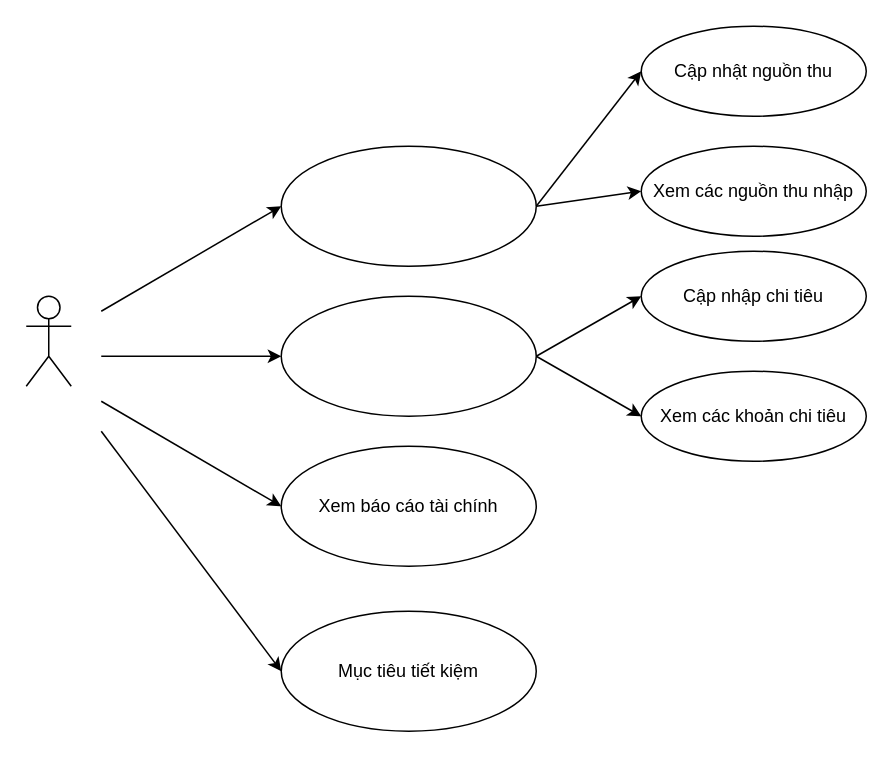
Some shapes in this 893 by 758 pixel diagram are drawn without their labels. The shapes that lost their labels are listed below. From the top down, each one's centre as x and y in pixels, then its label:
At [408,205]: "Quản lý thu nhập".
At [48,340]: "Actor".
At [408,355]: "Quản lý chi tiêu".
